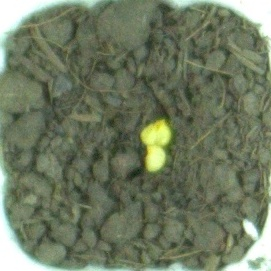chilli seed: (139, 118, 174, 148), (143, 143, 167, 172)
